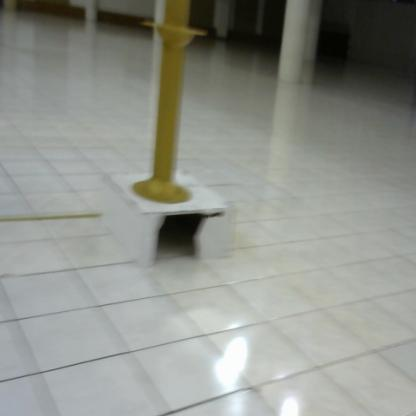pole: (134, 1, 212, 209)
